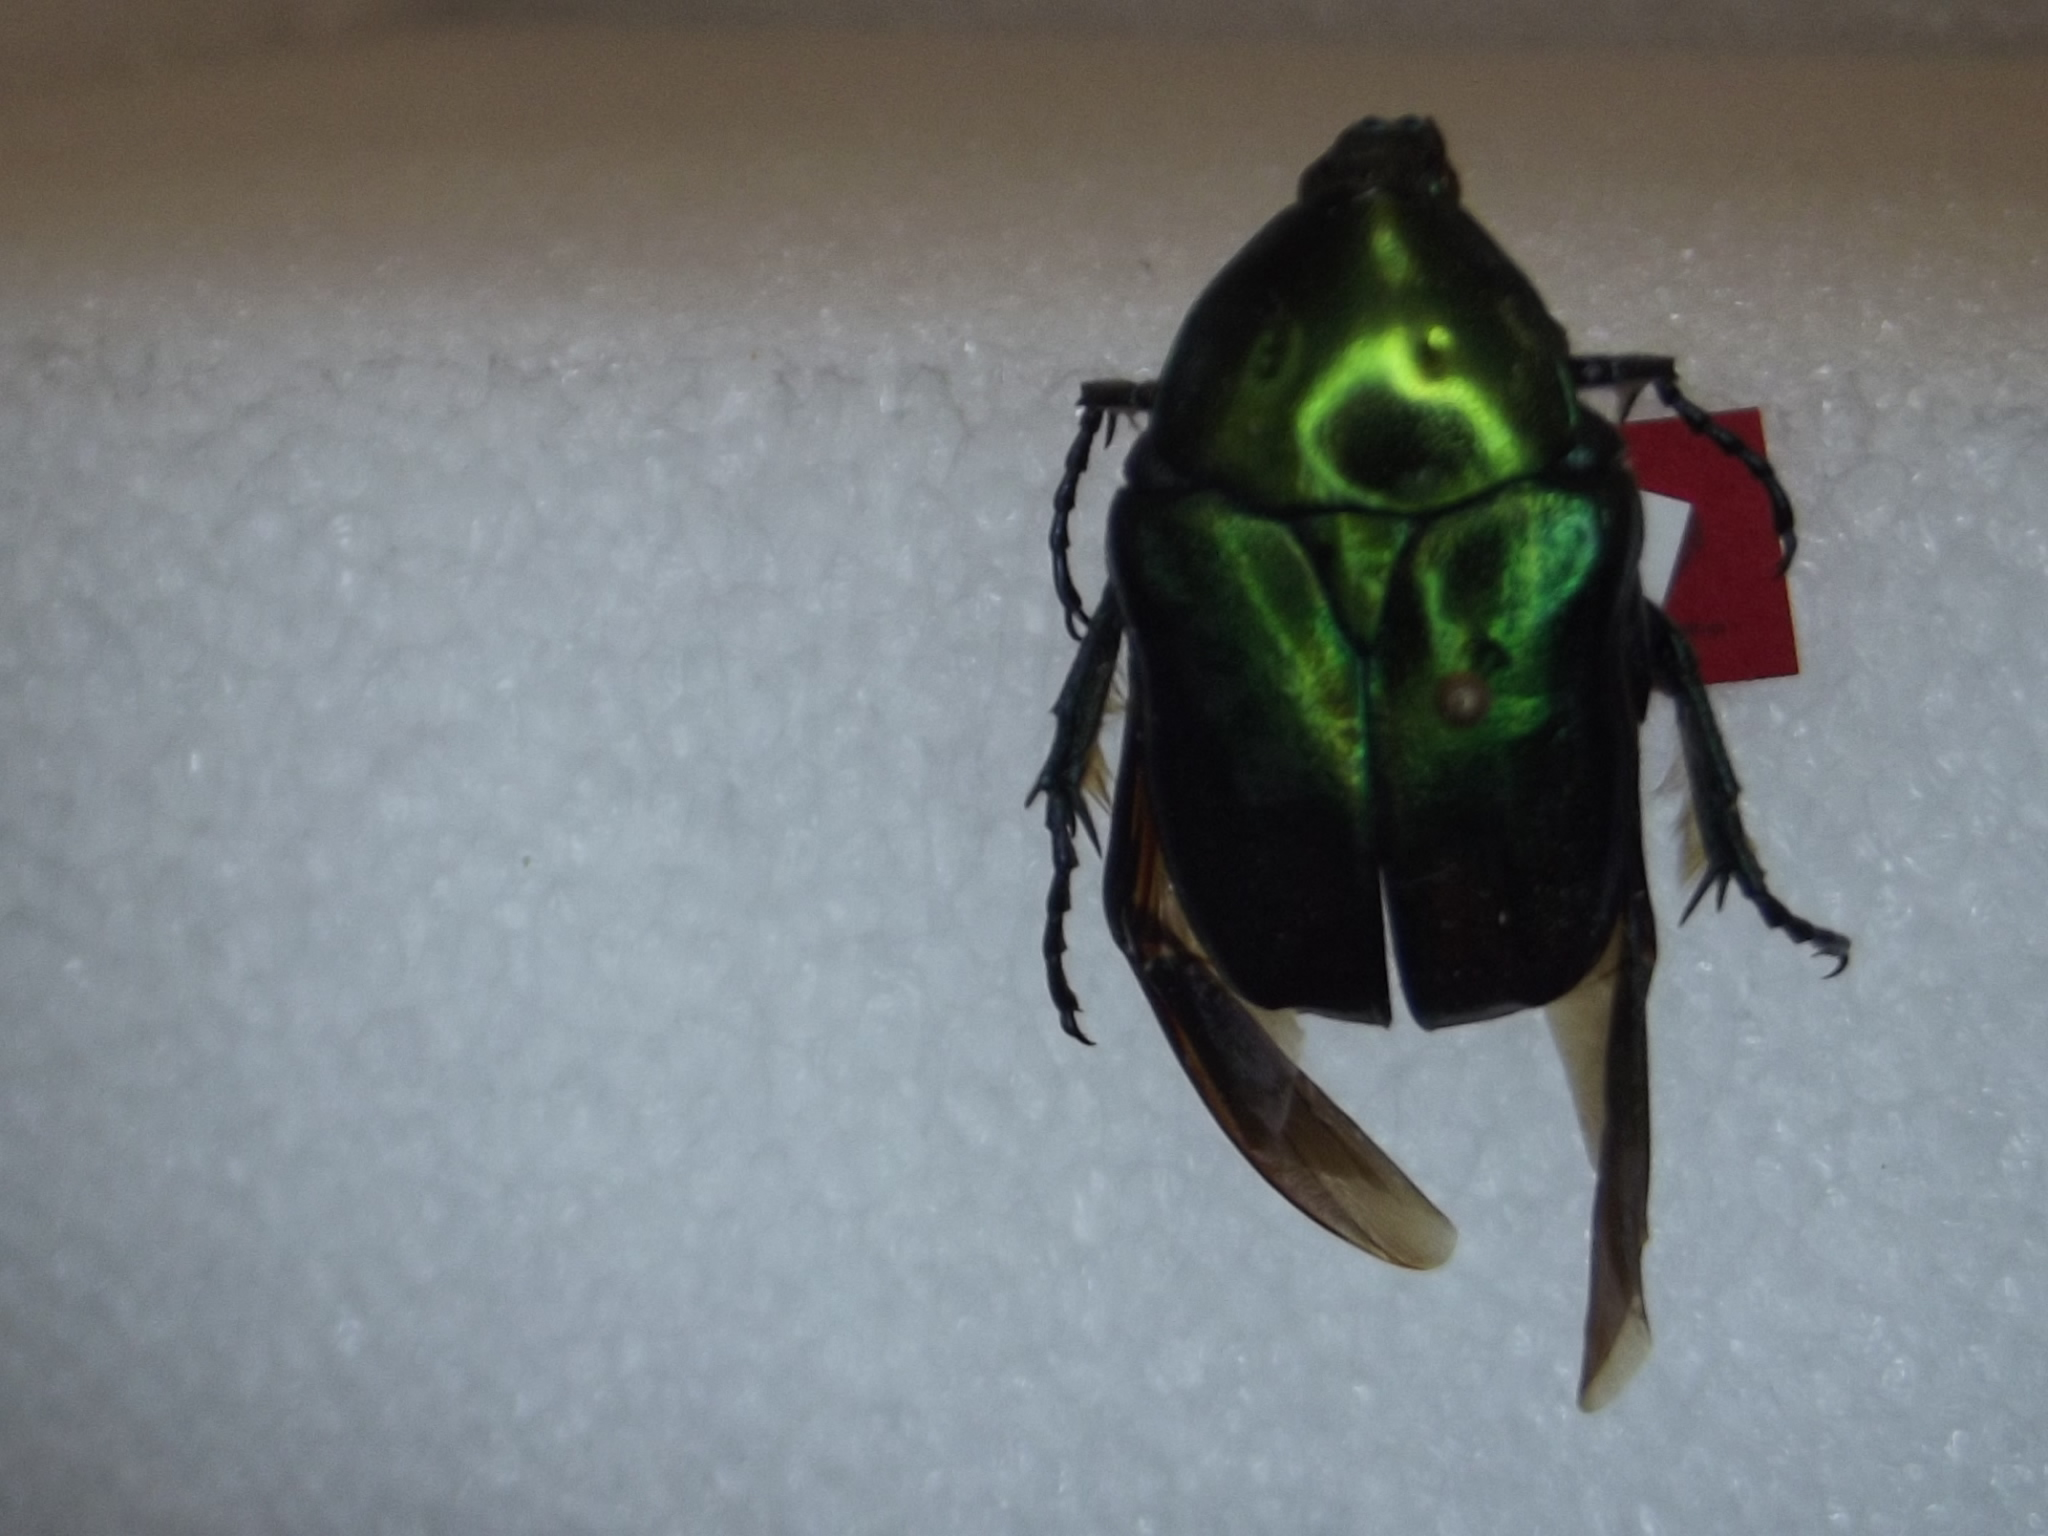Protaetia_besucheti: (1022, 87, 1879, 1459)
